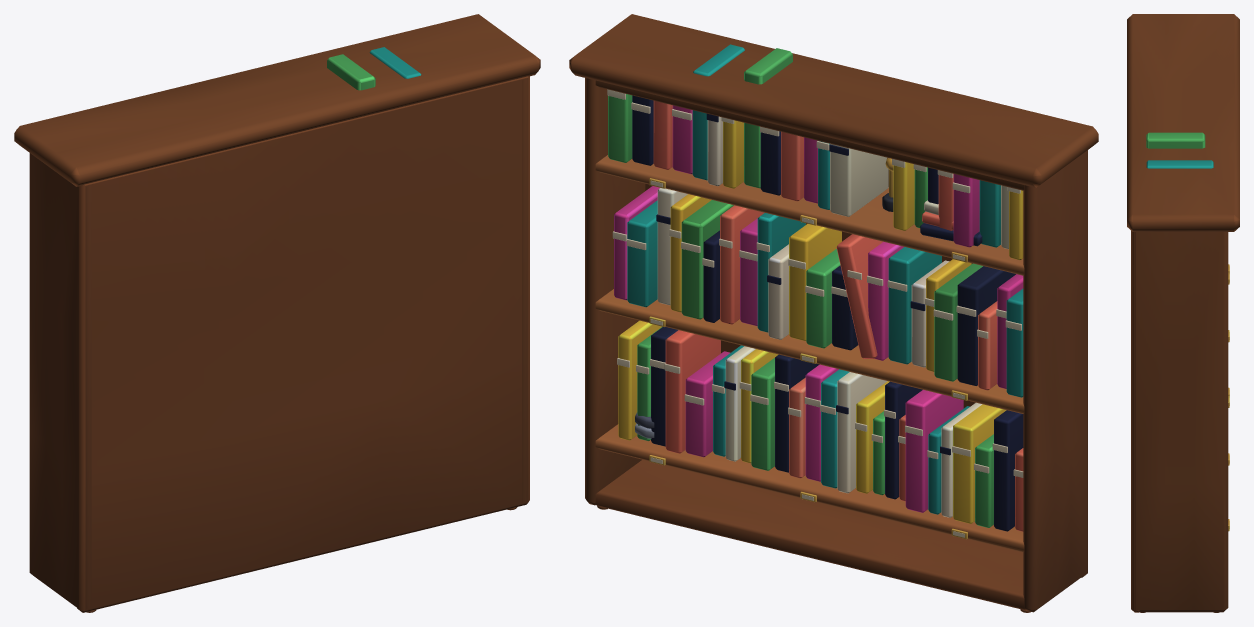
The model's file is SM_Office_Bookshelf.fbx.
3 views of the same model, side by side, from view 1: azimuth 30°, elevation 25°; view 2: azimuth 150°, elevation 25°; view 3: azimuth 270°, elevation 25° (orthographic). The views are drawn at different scales.
Visible parts, largest first — view 1: SM_Office_Bookshelf; view 2: SM_Office_Bookshelf; view 3: SM_Office_Bookshelf.
Boxes of the visible parts, x1=… form: SM_Office_Bookshelf: x1=14, y1=14, x2=540, y2=612; SM_Office_Bookshelf: x1=569, y1=14, x2=1098, y2=612; SM_Office_Bookshelf: x1=1127, y1=14, x2=1239, y2=612.
Size of the model in its own units: 250 by 235 by 58.08.
